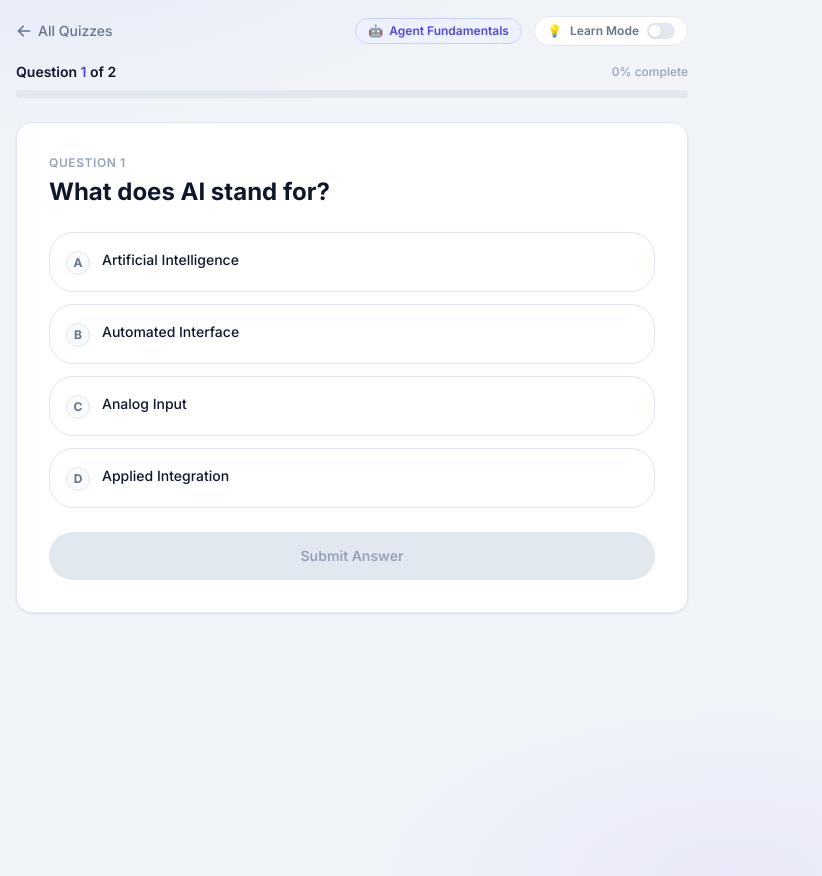
QuizPage — option selection › enables Submit after clicking an option
Expected: the heading "What does AI stand for?" is shown, x1=49 y1=177 x2=330 y2=206
Click the text "Artificial Intelligence" at (170, 260), box x1=102 y1=249 x2=239 y2=272
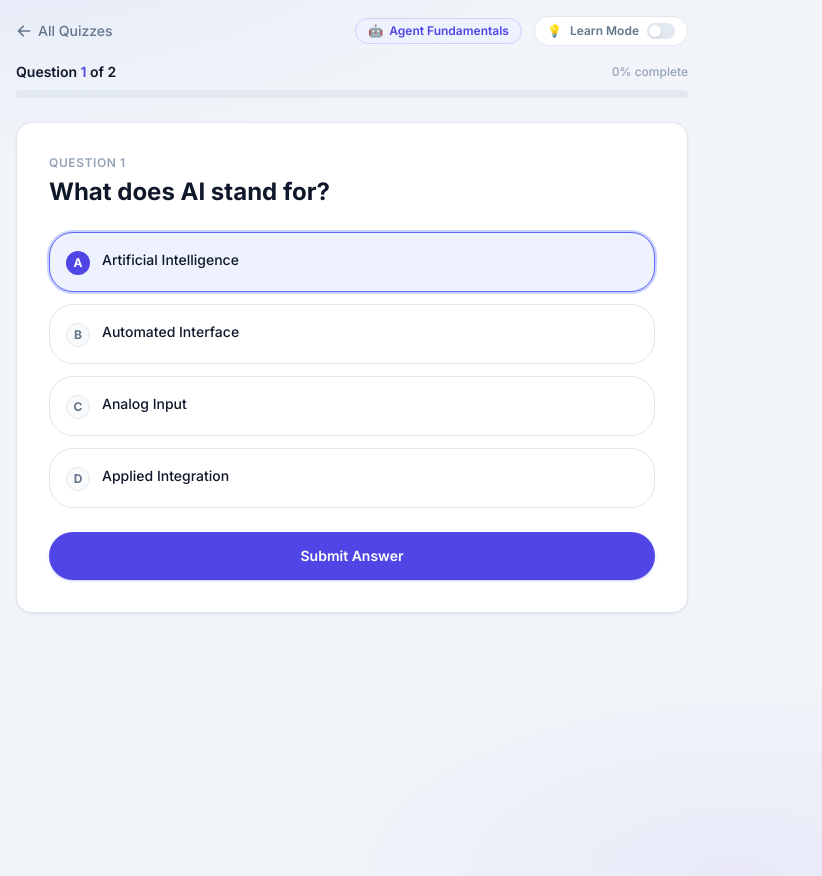
Expected: the button "Submit Answer" is enabled, x1=49 y1=532 x2=655 y2=580
